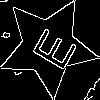E: (23, 21, 78, 73)
